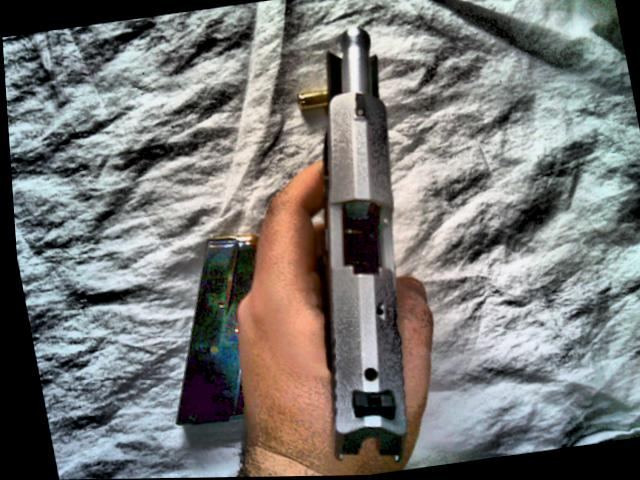pistol: (251, 22, 445, 462)
